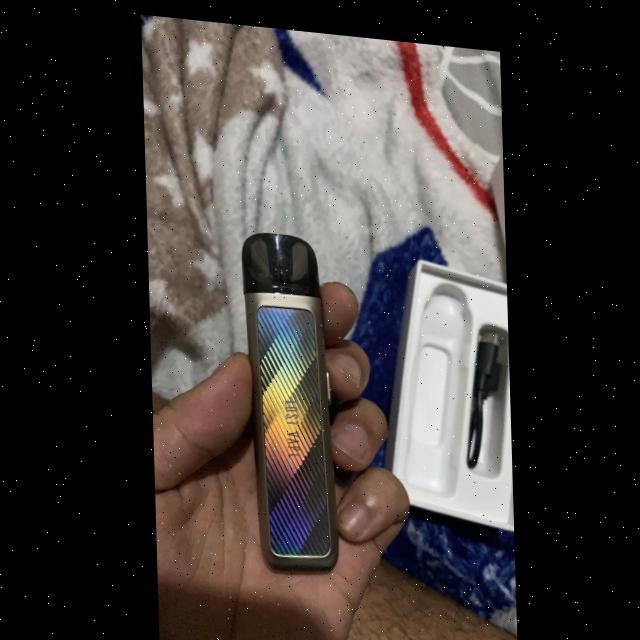vape: (240, 224, 336, 570)
